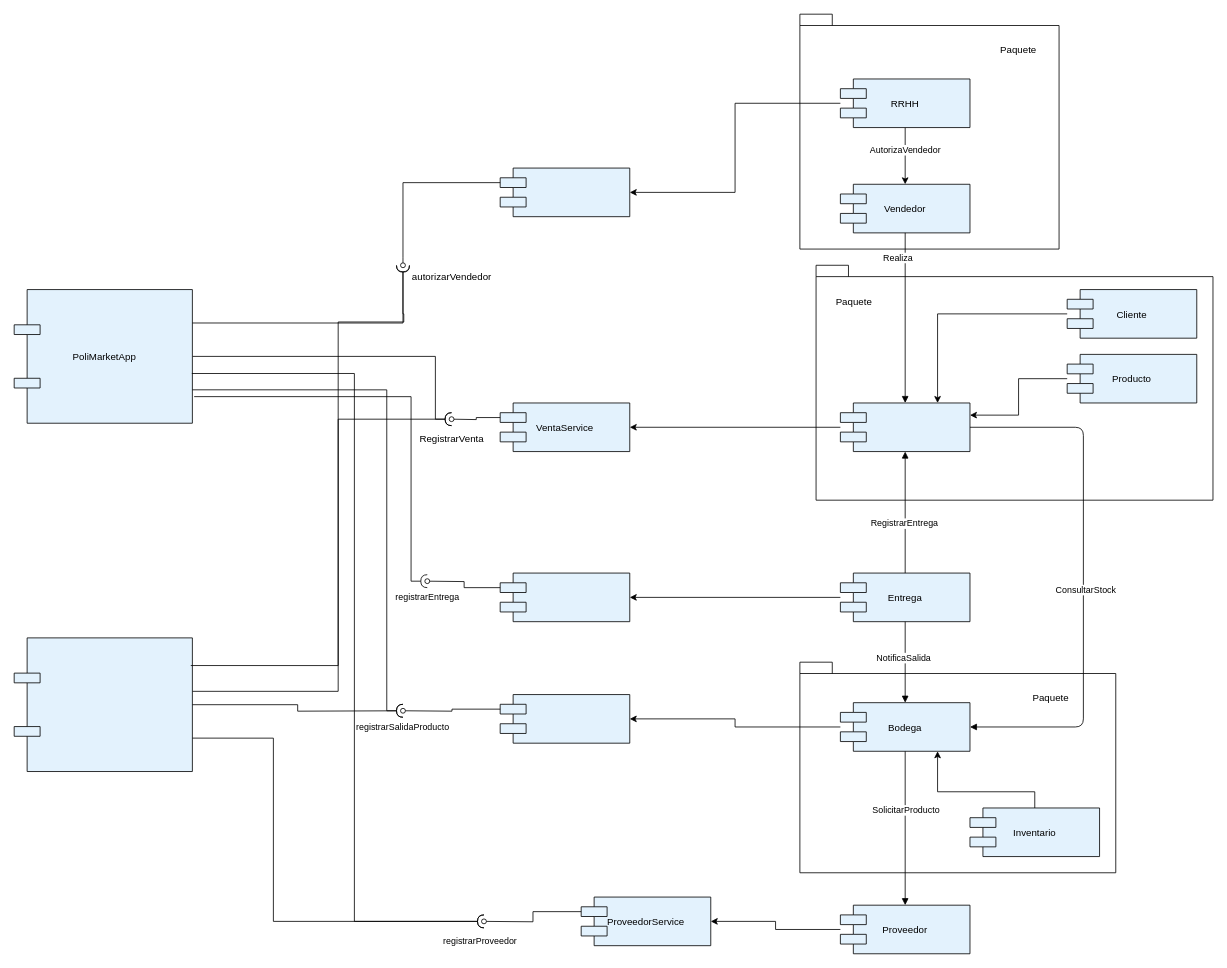
The diagram is 1227 pixels wide and 968 high, and some of its shapes have lost their labels. Each missing label, with the centre of its shape:
"BodegaService" belongs at pixel 564 718.
"Cliente Web - PoliMarket" belongs at pixel 102 704.
"EntregaService" belongs at pixel 564 597.
"RHService" belongs at pixel 564 192.
"Venta" belongs at pixel 905 427.
